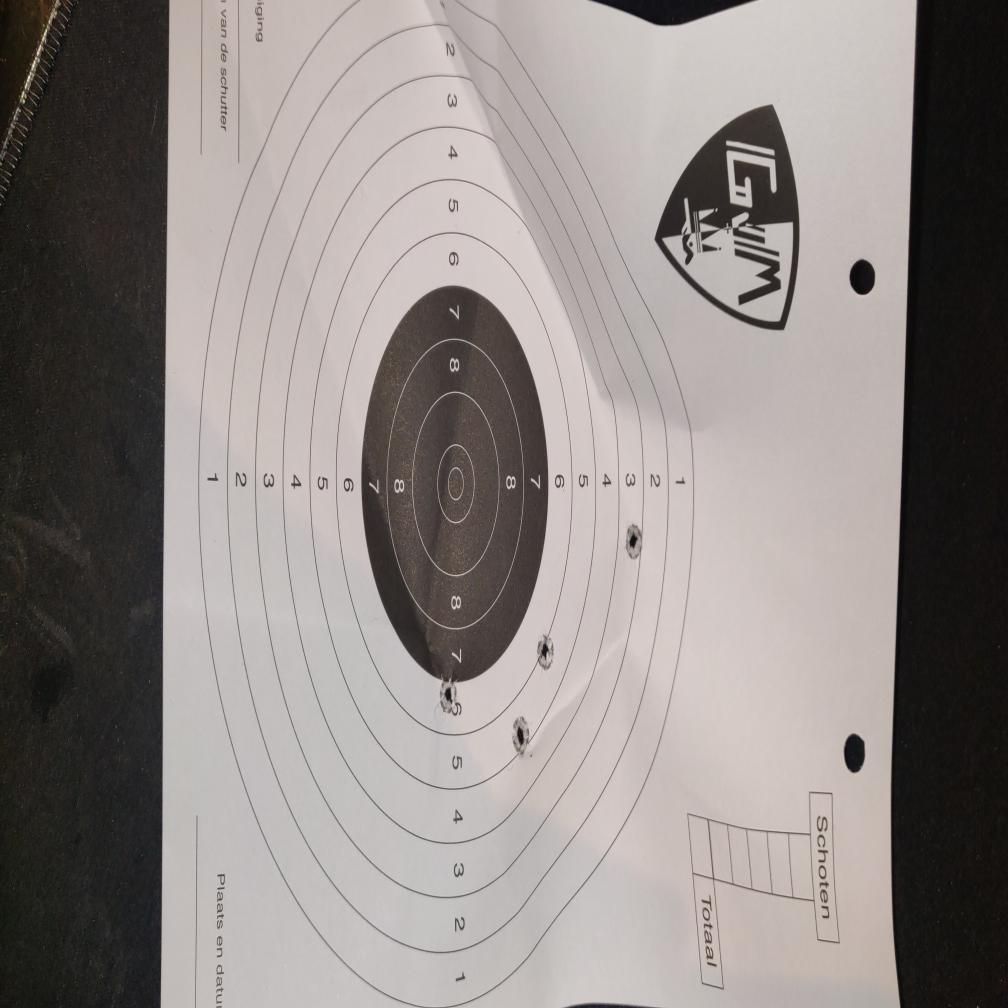3: (624, 518, 644, 566)
5: (509, 709, 532, 762)
6: (536, 631, 556, 674)
7: (434, 669, 460, 718)
Target: (196, 0, 697, 1008)
black_contour: (361, 282, 549, 684)
